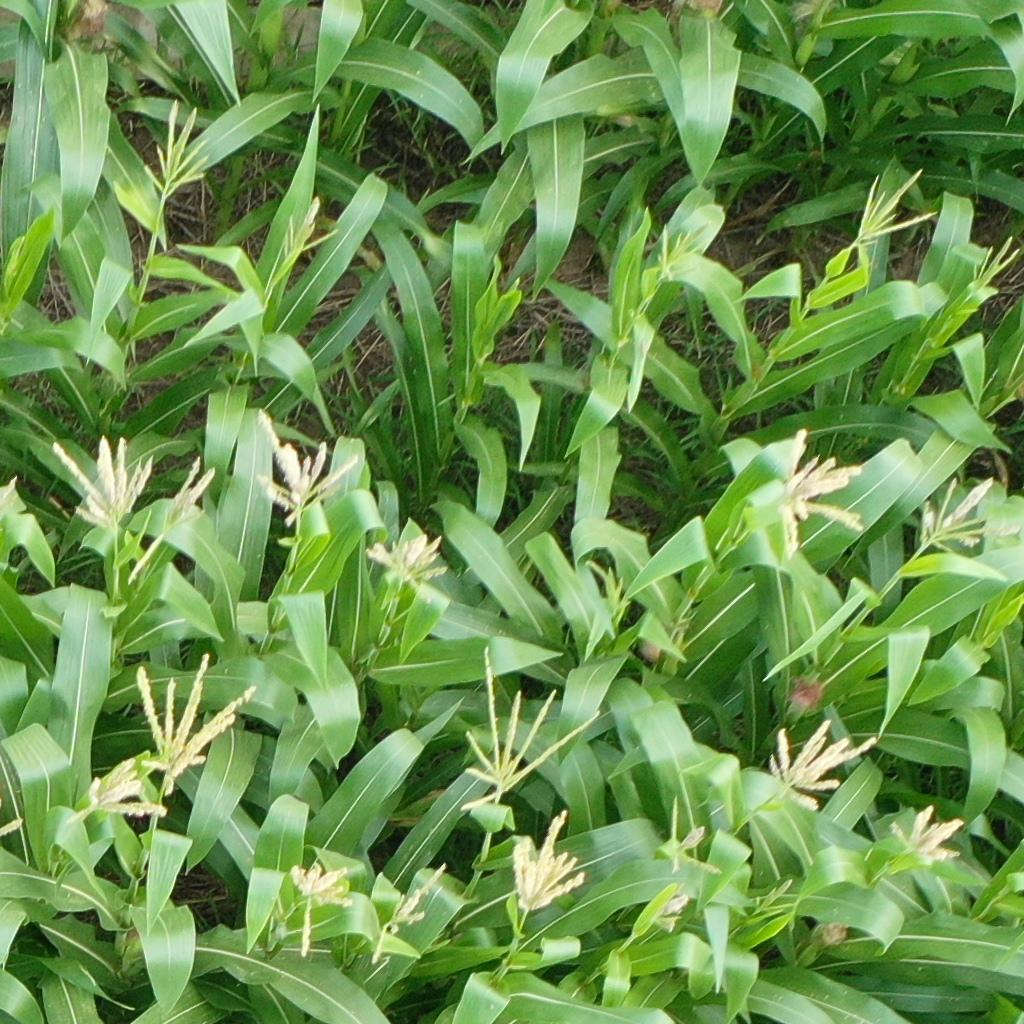Tassel: (461, 643, 601, 813), (134, 652, 258, 795), (253, 408, 360, 527), (772, 429, 866, 561), (127, 457, 216, 585), (51, 436, 154, 532), (767, 720, 876, 807), (369, 860, 449, 968), (508, 809, 588, 915), (922, 473, 1024, 553), (64, 753, 170, 825), (138, 98, 210, 200), (283, 862, 358, 958), (364, 525, 451, 606), (858, 169, 939, 242), (665, 796, 724, 877), (889, 804, 961, 866), (279, 196, 340, 265), (653, 216, 709, 282), (971, 233, 1019, 287), (587, 558, 630, 615), (653, 880, 690, 935), (753, 876, 797, 915), (5, 235, 25, 284)
